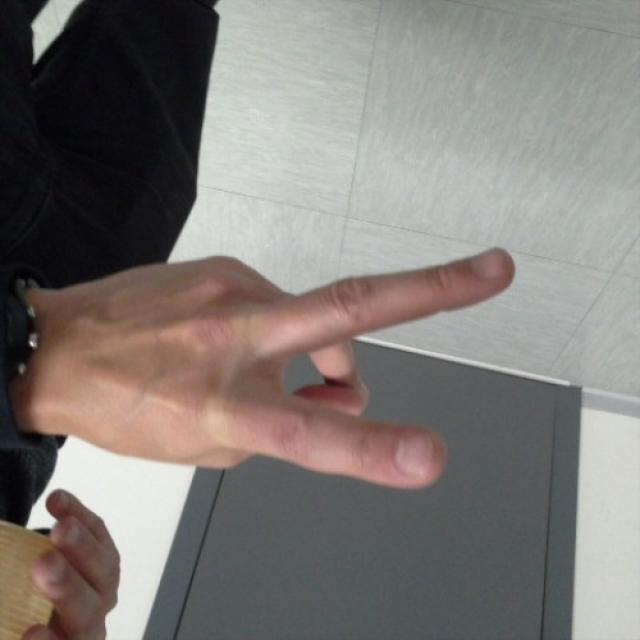scissors: (108, 245, 516, 491)
